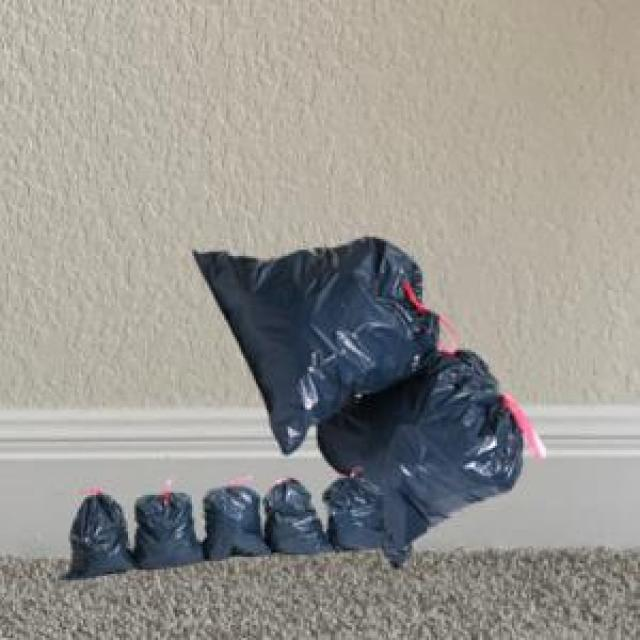waste: (196, 238, 545, 568), (66, 479, 331, 578)
